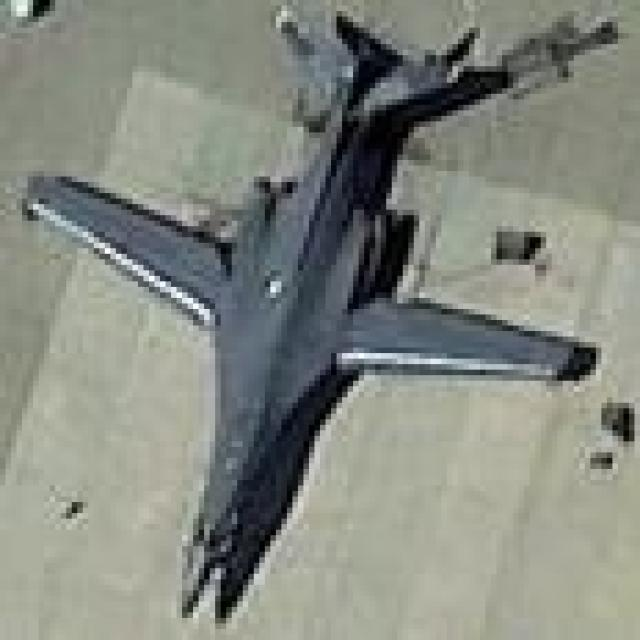B-1_TopDown: (10, 0, 623, 623)
